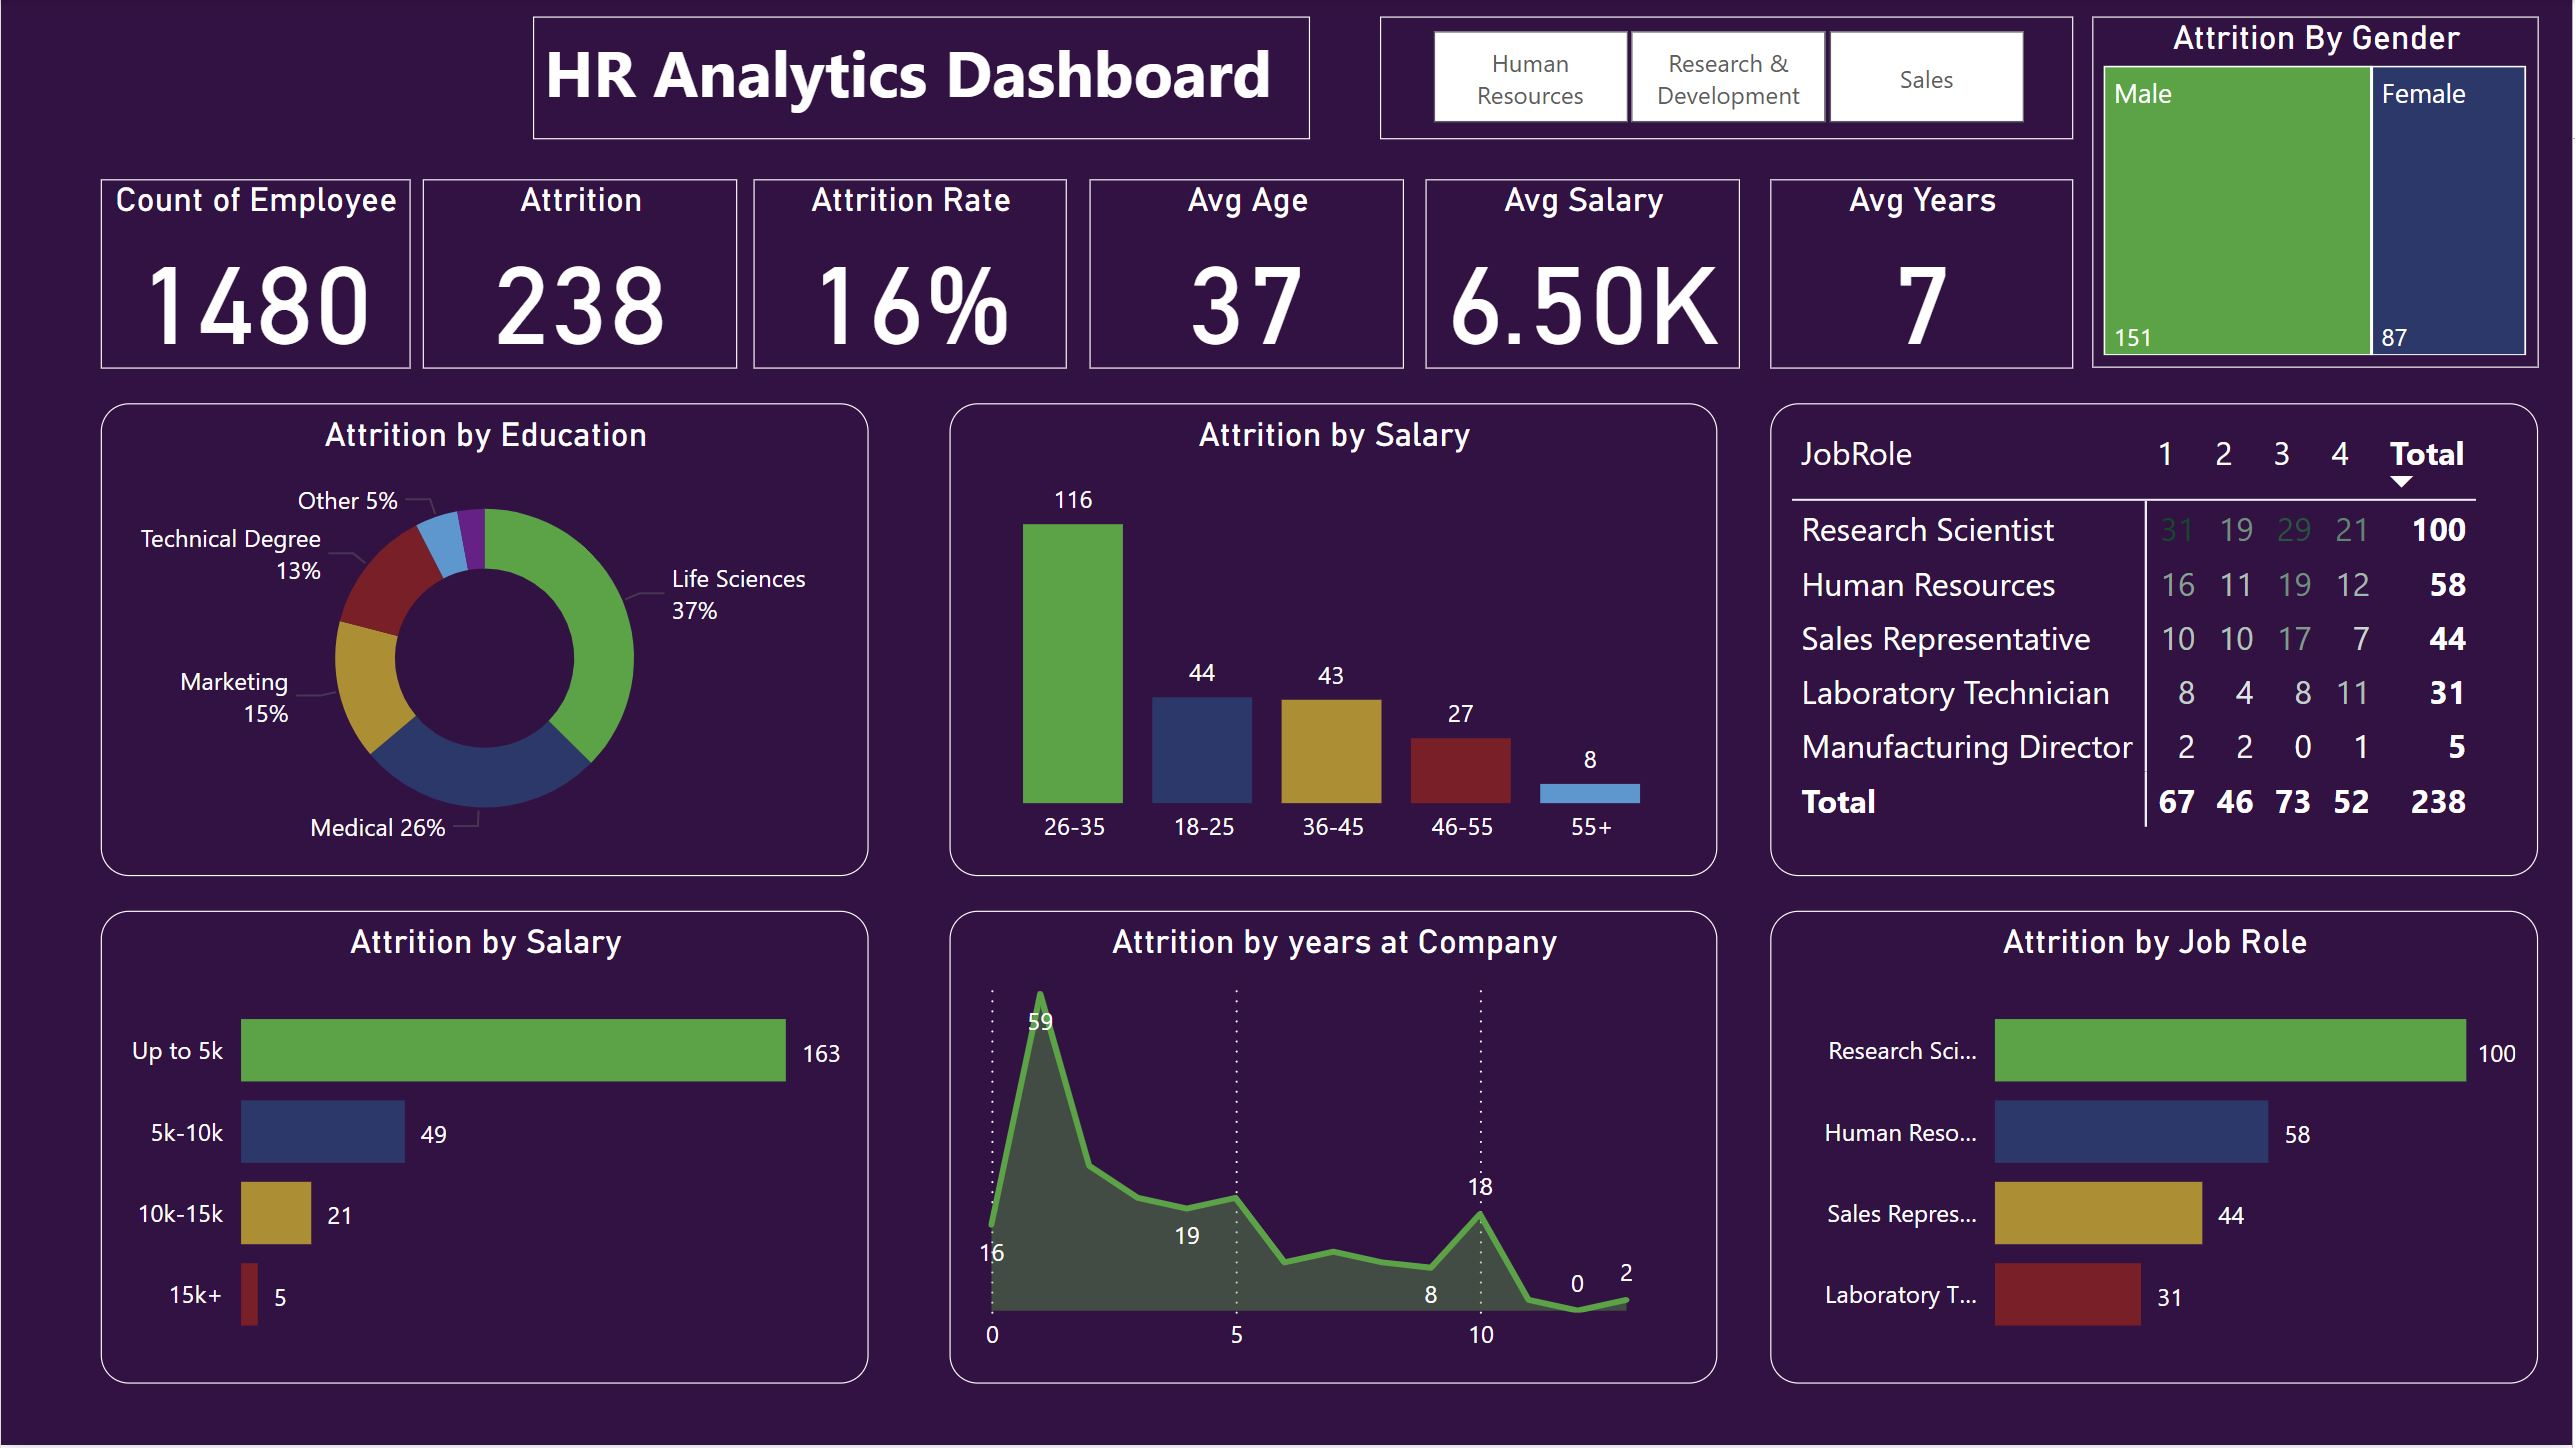

The dashboard page shown, as its layout file describes it:
{"tool":"powerbi","page":{"name":"Page 1","canvas":[1280,720],"ordinal":0},"visuals":[{"type":"card","title":"Count of Employee","fields":{"Values":["CountNonNull(HR_Data.EmpID)"]},"box":[50,90.1,154.2,94.1],"z":0},{"type":"card","title":"Attrition","fields":{"Values":["Sum(HR_Data.Attrition Count)"]},"box":[210.3,90.1,156.8,94.1],"z":1000},{"type":"card","title":"Attrition Rate","fields":{"Values":["HR_Data.Attrition_Rate"]},"box":[375,90.1,156,94.1],"z":2000},{"type":"card","title":"Avg Age","fields":{"Values":["Avg(HR_Data.Age)"]},"box":[542.3,90.1,156.8,94.1],"z":3000},{"type":"card","title":"Avg Salary","fields":{"Values":["Avg(HR_Data.MonthlyIncome)"]},"box":[709.6,90.1,156.8,94.1],"z":4000},{"type":"card","title":"Avg Years","fields":{"Values":["Avg(HR_Data.YearsAtCompany)"]},"box":[880.6,89.9,150.7,94.1],"z":5000},{"type":"textbox","box":[264.9,8.7,386.8,61],"z":6000},{"type":"slicer","fields":{"Values":["Departments.Department"]},"box":[686.6,8.7,345,61],"z":7000},{"type":"treemap","title":"Attrition By Gender","fields":{"Group":["HR_Data.Gender"],"Values":["Sum(HR_Data.Attrition Count)"]},"box":[1041.2,8.7,222.2,175.1],"z":8000},{"type":"donutChart","title":"Attrition by Education","fields":{"Category":["Education.Education"],"Y":["Sum(HR_Data.Attrition Count)"]},"box":[49.7,201.3,382.5,235.2],"z":9000},{"type":"barChart","title":"Attrition by Salary","fields":{"Y":["Sum(HR_Data.Attrition Count)"],"Category":["HR_Data.SalarySlab"],"Series":["HR_Data.SalarySlab"]},"box":[49.7,453.9,382.5,235.2],"z":10000},{"type":"pivotTable","title":"Attrition by Education","fields":{"Values":["Sum(HR_Data.Attrition Count)"],"Rows":["Jobs.JobRole"],"Columns":["HR_Data.JobSatisfaction"]},"box":[880.8,201.3,382.5,235.2],"z":11000},{"type":"areaChart","title":"Attrition by years at Company","fields":{"Category":["HR_Data.YearsAtCompany"],"Y":["Sum(HR_Data.Attrition Count)"]},"box":[472.2,453.9,382.5,235.2],"z":12000},{"type":"columnChart","title":"Attrition by Salary","fields":{"Category":["HR_Data.AgeGroup"],"Y":["Sum(HR_Data.Attrition Count)"],"Series":["HR_Data.AgeGroup"]},"box":[472.2,201.3,382.5,235.2],"z":13000},{"type":"barChart","title":"Attrition by Job Role","fields":{"Y":["Sum(HR_Data.Attrition Count)"],"Category":["Jobs.JobRole"],"Series":["Jobs.JobRole"]},"box":[880.8,453.9,382.5,235.2],"z":14000}]}

Visuals, with their boxes in screenshot pixels (x1, y1, x2, y2), scaled from the page's 1280x720 canvas onto the 2575x1448 screenshot:
"Count of Employee" card: (x1=101, y1=181, x2=411, y2=370)
"Attrition" card: (x1=423, y1=181, x2=739, y2=370)
"Attrition Rate" card: (x1=754, y1=181, x2=1068, y2=370)
"Avg Age" card: (x1=1091, y1=181, x2=1406, y2=370)
"Avg Salary" card: (x1=1428, y1=181, x2=1743, y2=370)
"Avg Years" card: (x1=1772, y1=181, x2=2075, y2=370)
textbox: (x1=533, y1=17, x2=1311, y2=140)
slicer - Departments.Department: (x1=1381, y1=17, x2=2075, y2=140)
"Attrition By Gender" treemap: (x1=2095, y1=17, x2=2542, y2=370)
"Attrition by Education" donutChart: (x1=100, y1=405, x2=869, y2=878)
"Attrition by Salary" barChart: (x1=100, y1=913, x2=869, y2=1386)
"Attrition by Education" pivotTable: (x1=1772, y1=405, x2=2541, y2=878)
"Attrition by years at Company" areaChart: (x1=950, y1=913, x2=1719, y2=1386)
"Attrition by Salary" columnChart: (x1=950, y1=405, x2=1719, y2=878)
"Attrition by Job Role" barChart: (x1=1772, y1=913, x2=2541, y2=1386)
